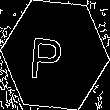P_N: (36, 28, 74, 82)
